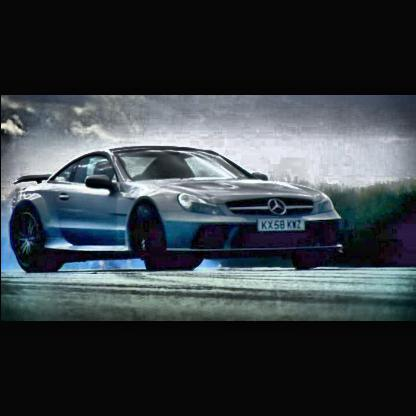Mercedes-Benz SL-Class Coupe 2009: (3, 148, 347, 273)
